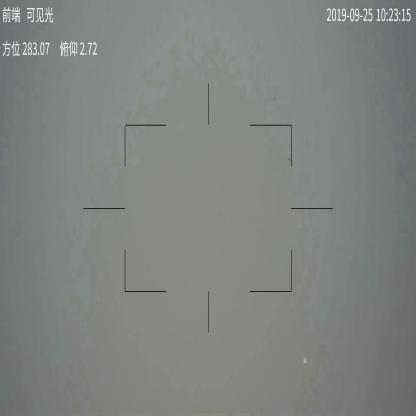uav: (301, 356, 308, 366)
